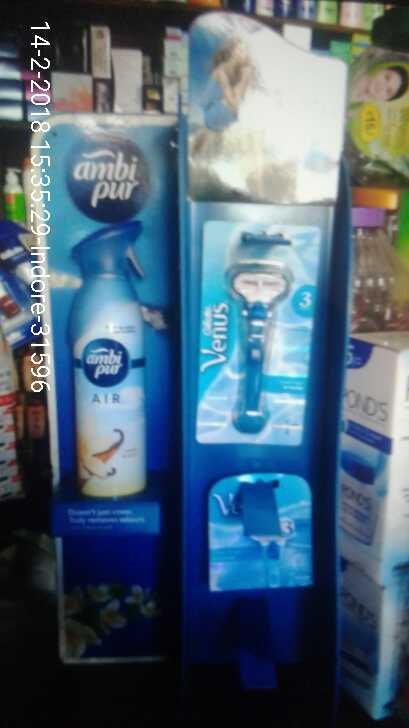beauty: (203, 225, 307, 443), (199, 468, 329, 603)
home: (56, 218, 156, 506)
